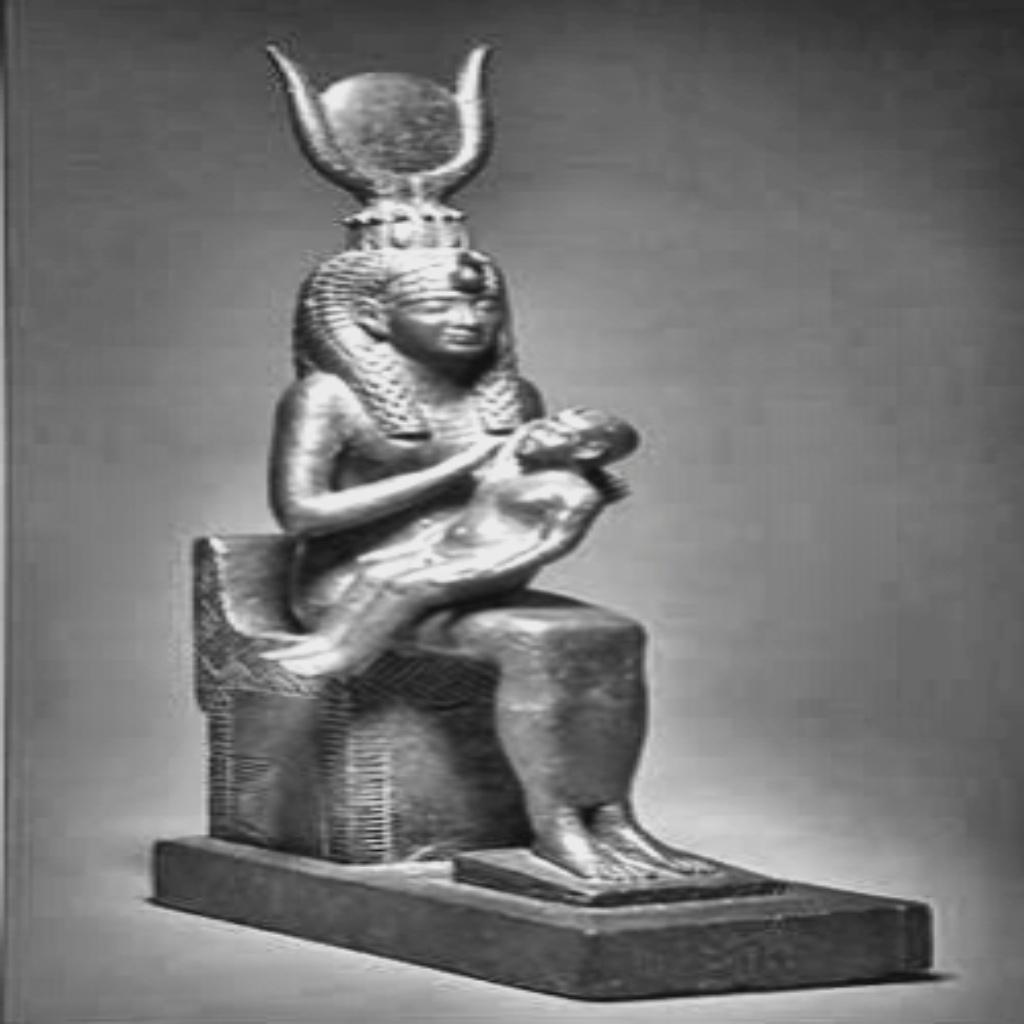Isis with her child: (136, 29, 942, 1002)
